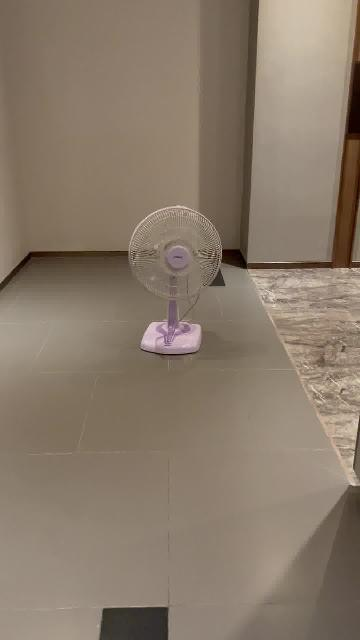Fan: (128, 206, 222, 356)
